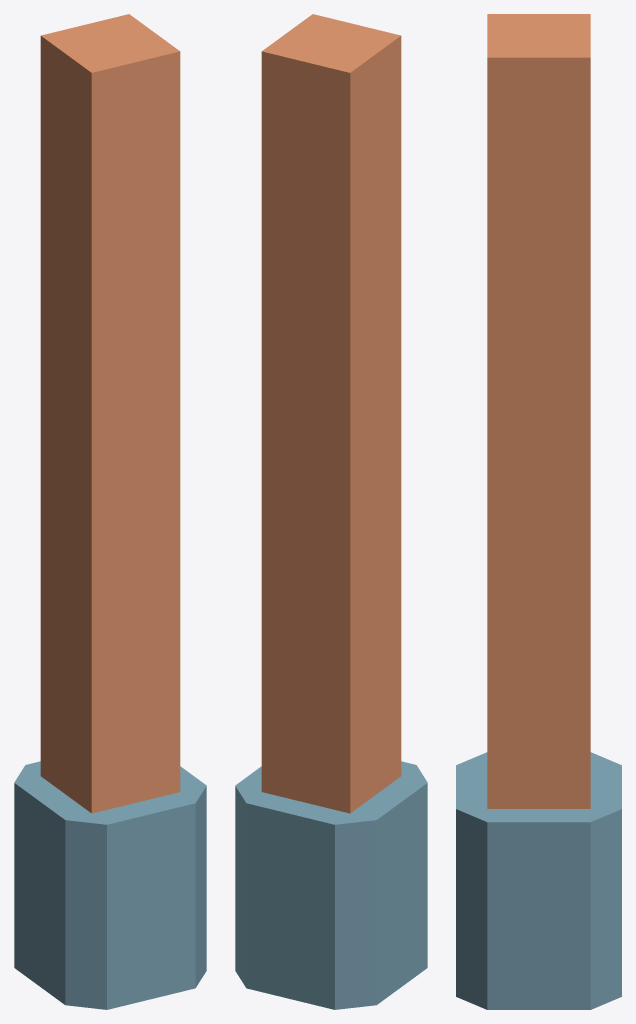
File: pillarWood.fbx
3 views of the same model, side by side, from view 1: azimuth 30°, elevation 25°; view 2: azimuth 150°, elevation 25°; view 3: azimuth 270°, elevation 25° (orthographic).
Visible parts, largest first — view 1: pillarWood; view 2: pillarWood; view 3: pillarWood.
Part boxes in pixels (x1,y1,x2,y2): pillarWood: [14, 14, 206, 1009]; pillarWood: [235, 14, 427, 1009]; pillarWood: [456, 14, 621, 1009].
Size of the model in its own units: 1.6 by 10 by 1.6.
